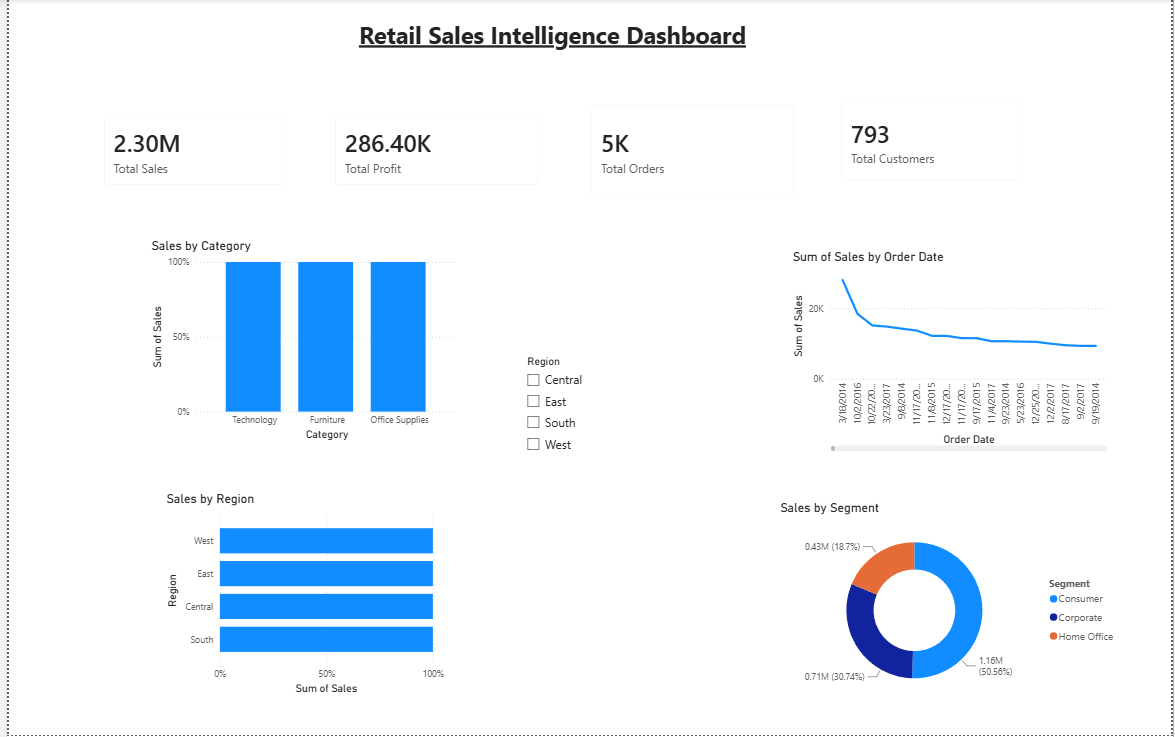

What the dashboard file says about the page in this screenshot:
{"tool":"powerbi","page":{"name":"Executive Dashboard","canvas":[1280,1000],"ordinal":0},"visuals":[{"type":"cardVisual","fields":{"Data":["Superstore.Total Sales"]},"box":[9.6,60.4,279.9,279.9],"z":0},{"type":"cardVisual","fields":{"Data":["Superstore.Total Profit"]},"box":[277.2,60.4,279.9,279.9],"z":1000},{"type":"cardVisual","fields":{"Data":["Superstore.Total Orders"]},"box":[580.4,60.4,310.1,267.6],"z":2000},{"type":"cardVisual","fields":{"Data":["Superstore.Total Customers"]},"box":[916.6,60.4,279.9,279.9],"z":3000},{"type":"hundredPercentStackedColumnChart","title":"Sales by Category","fields":{"Category":["Superstore.Category"],"Y":["Sum(Superstore.Sales)"]},"box":[27.4,359.5,279.9,279.9],"z":4000},{"type":"lineChart","fields":{"Category":["Superstore.Order Date"],"Y":["Sum(Superstore.Sales)"]},"box":[344.4,376,267.6,279.9],"z":5000},{"type":"hundredPercentStackedBarChart","title":"Sales by Region","fields":{"Category":["Superstore.Region"],"Y":["Sum(Superstore.Sales)"]},"box":[662.8,376,227.8,279.9],"z":6000},{"type":"donutChart","title":"Sales by Segment","fields":{"Category":["Superstore.Segment"],"Y":["Sum(Superstore.Sales)"]},"box":[942.7,392.5,222.3,279.9],"z":7000},{"type":"slicer","fields":{"Values":["Superstore.Region"]},"box":[27.2,703.1,280.2,280.2],"z":8000},{"type":"textbox","box":[27.2,0,613.1,76.4],"z":9000}]}

Visuals, with their boxes on the page's 1280x1000 design canvas (x1, y1, x2, y2). These are canvas units, not pixel positions in the 1175x737 screenshot, which may show the page scaled, cropped or inside an application window:
cardVisual - Superstore.Total Sales: (left=10, top=60, right=290, bottom=340)
cardVisual - Superstore.Total Profit: (left=277, top=60, right=557, bottom=340)
cardVisual - Superstore.Total Orders: (left=580, top=60, right=890, bottom=328)
cardVisual - Superstore.Total Customers: (left=917, top=60, right=1196, bottom=340)
"Sales by Category" hundredPercentStackedColumnChart: (left=27, top=360, right=307, bottom=639)
lineChart - Superstore.Order Date x Sum(Superstore.Sales): (left=344, top=376, right=612, bottom=656)
"Sales by Region" hundredPercentStackedBarChart: (left=663, top=376, right=891, bottom=656)
"Sales by Segment" donutChart: (left=943, top=392, right=1165, bottom=672)
slicer - Superstore.Region: (left=27, top=703, right=307, bottom=983)
textbox: (left=27, top=0, right=640, bottom=76)
